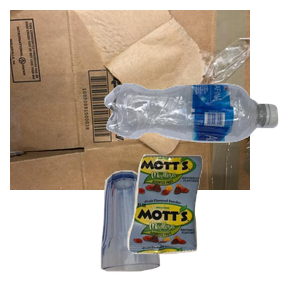cardboard: (10, 10, 250, 190)
glass: (98, 168, 251, 300)
plastic: (102, 81, 300, 216)
trash: (125, 152, 300, 300)
